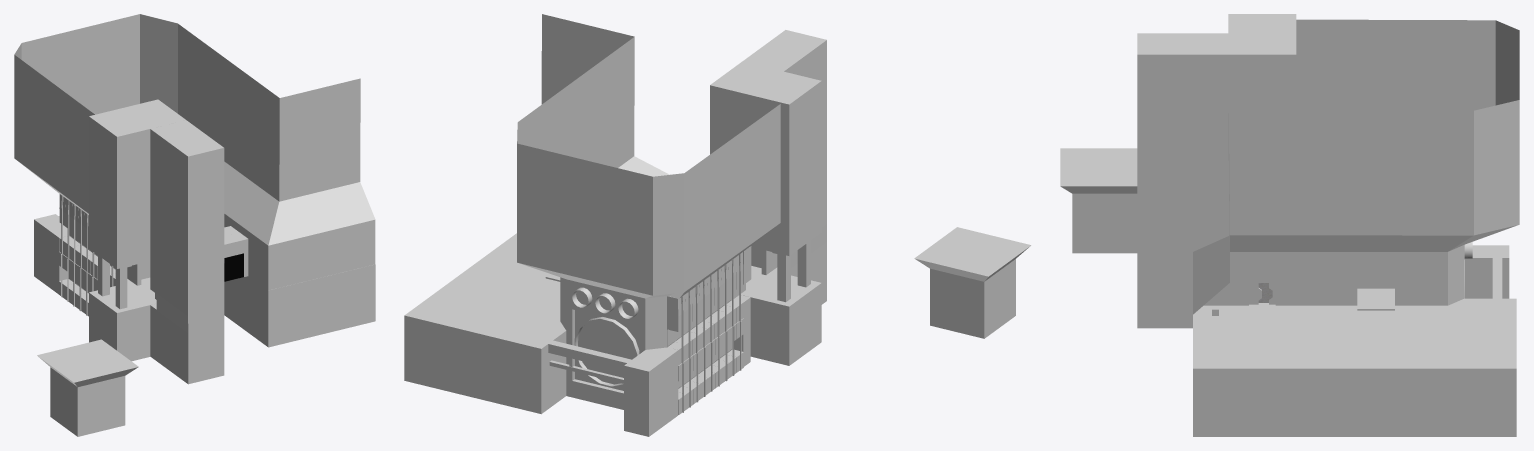
Rendered from Metapathic_Structure_01.fbx.
3 renders of one model, left to right at view 1: azimuth 30°, elevation 25°; view 2: azimuth 150°, elevation 25°; view 3: azimuth 270°, elevation 25°, orthographic. The views are drawn at different scales.
Visible parts, largest first — view 1: Cube.010, Cube.006, Plane.010, Plane.002, Cube.001, Cube.009, Plane.007, Cube.003, Plane.008, Cube.008, Cube.002, Cube.013 (+3 smaller); view 2: Cube.010, Plane.002, Plane.010, Cube.001, Cube.004, Plane.007, Cube.006, Cube.003, Plane.008, Cube.008, Plane.009, Cube.005 (+2 smaller); view 3: Cube.010, Plane.002, Cube.006, Cube.004, Cube.001, Plane.010, Plane.008, Cube.002, Cube.009, Cube.014, Plane.009.
Boxes of the visible parts, x1=… form: Cube.010: x1=14, y1=14, x2=375, y2=245; Cube.006: x1=150, y1=120, x2=224, y2=384; Plane.010: x1=89, y1=99, x2=185, y2=268; Plane.002: x1=224, y1=264, x2=375, y2=347; Cube.001: x1=37, y1=339, x2=138, y2=436; Cube.009: x1=248, y1=220, x2=375, y2=290; Plane.007: x1=89, y1=277, x2=156, y2=361; Cube.003: x1=59, y1=194, x2=115, y2=287; Plane.008: x1=34, y1=214, x2=67, y2=294; Cube.008: x1=59, y1=251, x2=97, y2=316; Cube.002: x1=224, y1=218, x2=248, y2=276; Cube.013: x1=115, y1=267, x2=127, y2=309; Cube.010: x1=517, y1=14, x2=780, y2=298; Plane.002: x1=404, y1=233, x2=566, y2=414; Plane.010: x1=710, y1=61, x2=821, y2=255; Cube.001: x1=914, y1=227, x2=1031, y2=338; Cube.004: x1=560, y1=277, x2=666, y2=409; Plane.007: x1=741, y1=266, x2=821, y2=365; Cube.006: x1=742, y1=30, x2=826, y2=304; Cube.003: x1=667, y1=252, x2=743, y2=365; Plane.008: x1=624, y1=347, x2=678, y2=436; Cube.008: x1=678, y1=318, x2=743, y2=414; Plane.009: x1=548, y1=340, x2=631, y2=371; Cube.005: x1=733, y1=246, x2=751, y2=366; Cube.010: x1=1193, y1=19, x2=1519, y2=314; Plane.002: x1=1193, y1=298, x2=1516, y2=436; Cube.006: x1=1137, y1=33, x2=1232, y2=328; Cube.004: x1=1283, y1=245, x2=1464, y2=305; Cube.001: x1=1060, y1=148, x2=1137, y2=253; Plane.010: x1=1228, y1=14, x2=1296, y2=110; Plane.008: x1=1465, y1=245, x2=1509, y2=298; Cube.002: x1=1241, y1=252, x2=1283, y2=305; Cube.009: x1=1204, y1=252, x2=1240, y2=305; Cube.014: x1=1357, y1=288, x2=1394, y2=310; Plane.009: x1=1492, y1=258, x2=1502, y2=298.
Bounding box in the file's own units: 144 × 90.08 × 134.
